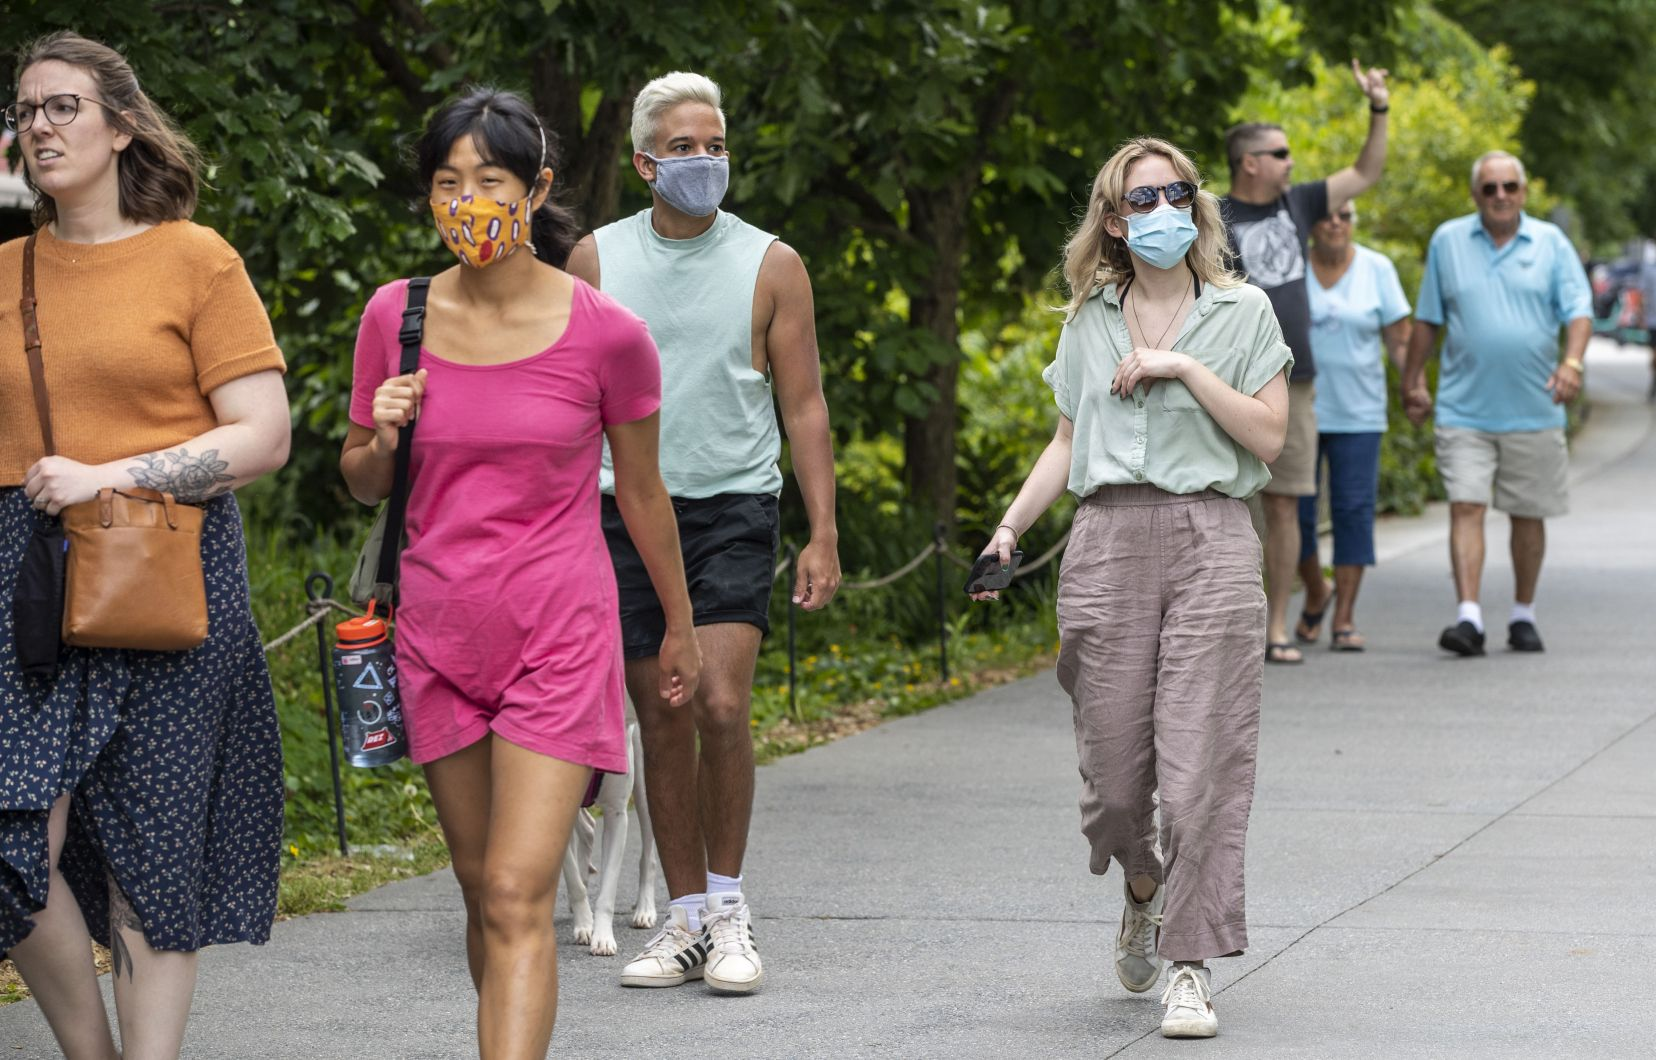with_mask: (430, 133, 550, 279), (625, 101, 741, 221), (1110, 166, 1206, 267)
without_mask: (9, 74, 122, 189), (1253, 139, 1306, 203), (1475, 159, 1525, 225), (1305, 200, 1359, 254)
